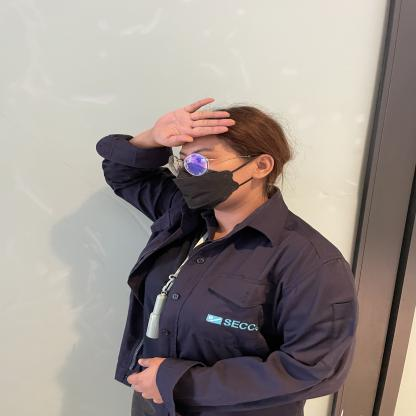Sick: (83, 84, 247, 186)
